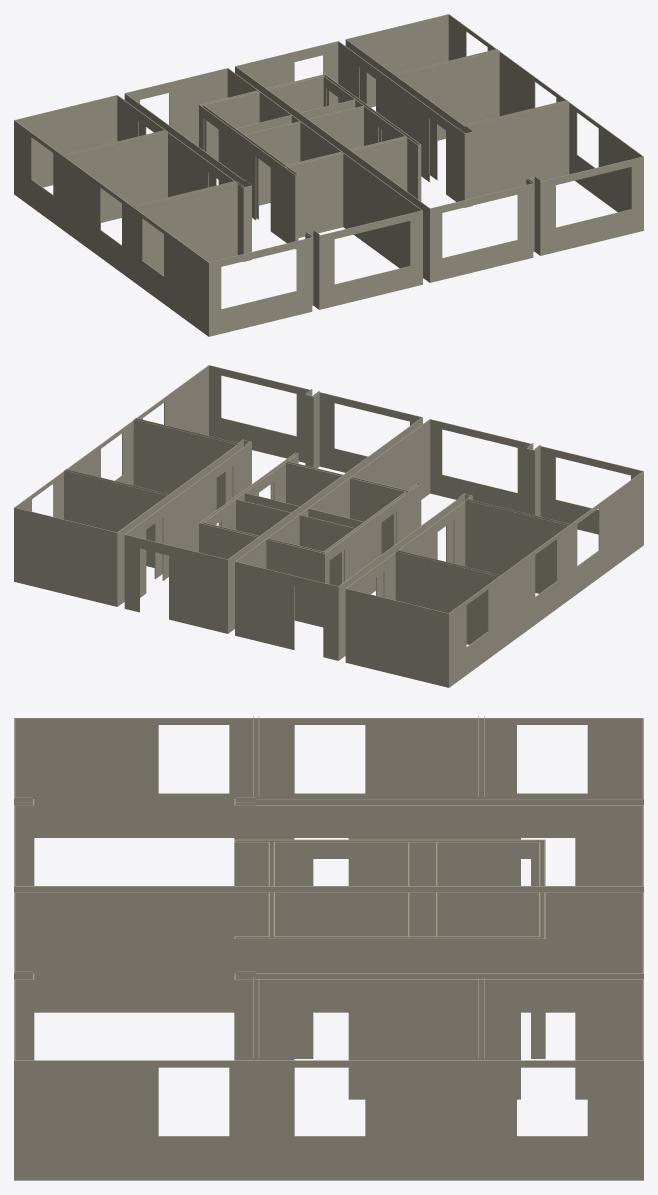
File: Kips_2kihiline.glb
The picture shows the model from 3 angles, top to bottom: view 1: azimuth 30°, elevation 25°; view 2: azimuth 150°, elevation 25°; view 3: azimuth 270°, elevation 25°; orthographic projection. The views are drawn at different scales.
Parts seen in each view (by area): view 1: Kipsplaat_395 (×4), Kipsplaat_423 (×8), Kipsplaat_409, Kipsplaat_399 (×2), Kipsplaat_411 (×2), Kipsplaat_405 (×2), Kipsplaat_421, Kipsplaat_410, Kipsplaat_417 (×2), Kipsplaat_435, Kipsplaat_419, Kipsplaat_437 (×2) (+12 smaller); view 2: Kipsplaat_395 (×4), Kipsplaat_404 (×2), Kipsplaat_409, Kipsplaat_416 (×2), Kipsplaat_423 (×6), Kipsplaat_400 (×2), Kipsplaat_412 (×2), Kipsplaat_421, Kipsplaat_410, Kipsplaat_431 (×2), Kipsplaat_435, Kipsplaat_419 (+11 smaller); view 3: Kipsplaat_409, Kipsplaat_421, Kipsplaat_410 (×2), Kipsplaat_407, Kipsplaat_435 (×2), Kipsplaat_437 (×2), Kipsplaat_408, Kipsplaat_420, Kipsplaat_419, Kipsplaat_422, Kipsplaat_406, Kipsplaat_418 (+4 smaller).
Boxes of the visible parts, left/top/right/bottom form: Kipsplaat_395 (×4): left=65, top=50, right=569, bottom=275; Kipsplaat_423 (×8): left=204, top=76, right=407, bottom=237; Kipsplaat_409: left=14, top=120, right=208, bottom=336; Kipsplaat_399 (×2): left=208, top=156, right=643, bottom=336; Kipsplaat_411 (×2): left=319, top=183, right=533, bottom=309; Kipsplaat_405 (×2): left=15, top=14, right=448, bottom=187; Kipsplaat_421: left=227, top=68, right=421, bottom=268; Kipsplaat_410: left=448, top=14, right=642, bottom=212; Kipsplaat_417 (×2): left=125, top=41, right=338, bottom=146; Kipsplaat_435: left=199, top=105, right=294, bottom=243; Kipsplaat_419: left=388, top=78, right=457, bottom=201; Kipsplaat_437 (×2): left=203, top=76, right=417, bottom=219; Kipsplaat_395 (×4): left=64, top=419, right=567, bottom=644; Kipsplaat_404 (×2): left=14, top=507, right=449, bottom=687; Kipsplaat_409: left=449, top=471, right=643, bottom=687; Kipsplaat_416 (×2): left=124, top=534, right=338, bottom=660; Kipsplaat_423 (×6): left=236, top=462, right=405, bottom=586; Kipsplaat_400 (×2): left=209, top=365, right=642, bottom=534; Kipsplaat_412 (×2): left=319, top=392, right=530, bottom=512; Kipsplaat_421: left=236, top=419, right=430, bottom=568; Kipsplaat_410: left=15, top=365, right=208, bottom=519; Kipsplaat_431 (×2): left=199, top=523, right=324, bottom=627; Kipsplaat_435: left=324, top=483, right=420, bottom=594; Kipsplaat_419: left=175, top=447, right=245, bottom=552; Kipsplaat_409: left=14, top=1060, right=643, bottom=1180; Kipsplaat_421: left=15, top=892, right=642, bottom=1012; Kipsplaat_410 (×2): left=15, top=718, right=642, bottom=1136; Kipsplaat_407: left=256, top=979, right=481, bottom=1099; Kipsplaat_435 (×2): left=235, top=840, right=545, bottom=1058; Kipsplaat_437 (×2): left=235, top=842, right=538, bottom=938; Kipsplaat_408: left=481, top=979, right=642, bottom=1099; Kipsplaat_420: left=481, top=805, right=642, bottom=885; Kipsplaat_419: left=256, top=805, right=481, bottom=885; Kipsplaat_422: left=14, top=886, right=643, bottom=892; Kipsplaat_406: left=15, top=979, right=255, bottom=1060; Kipsplaat_418: left=15, top=805, right=255, bottom=885.
Bounding box in the file's own units: 14.96 × 2.48 × 11.61.
